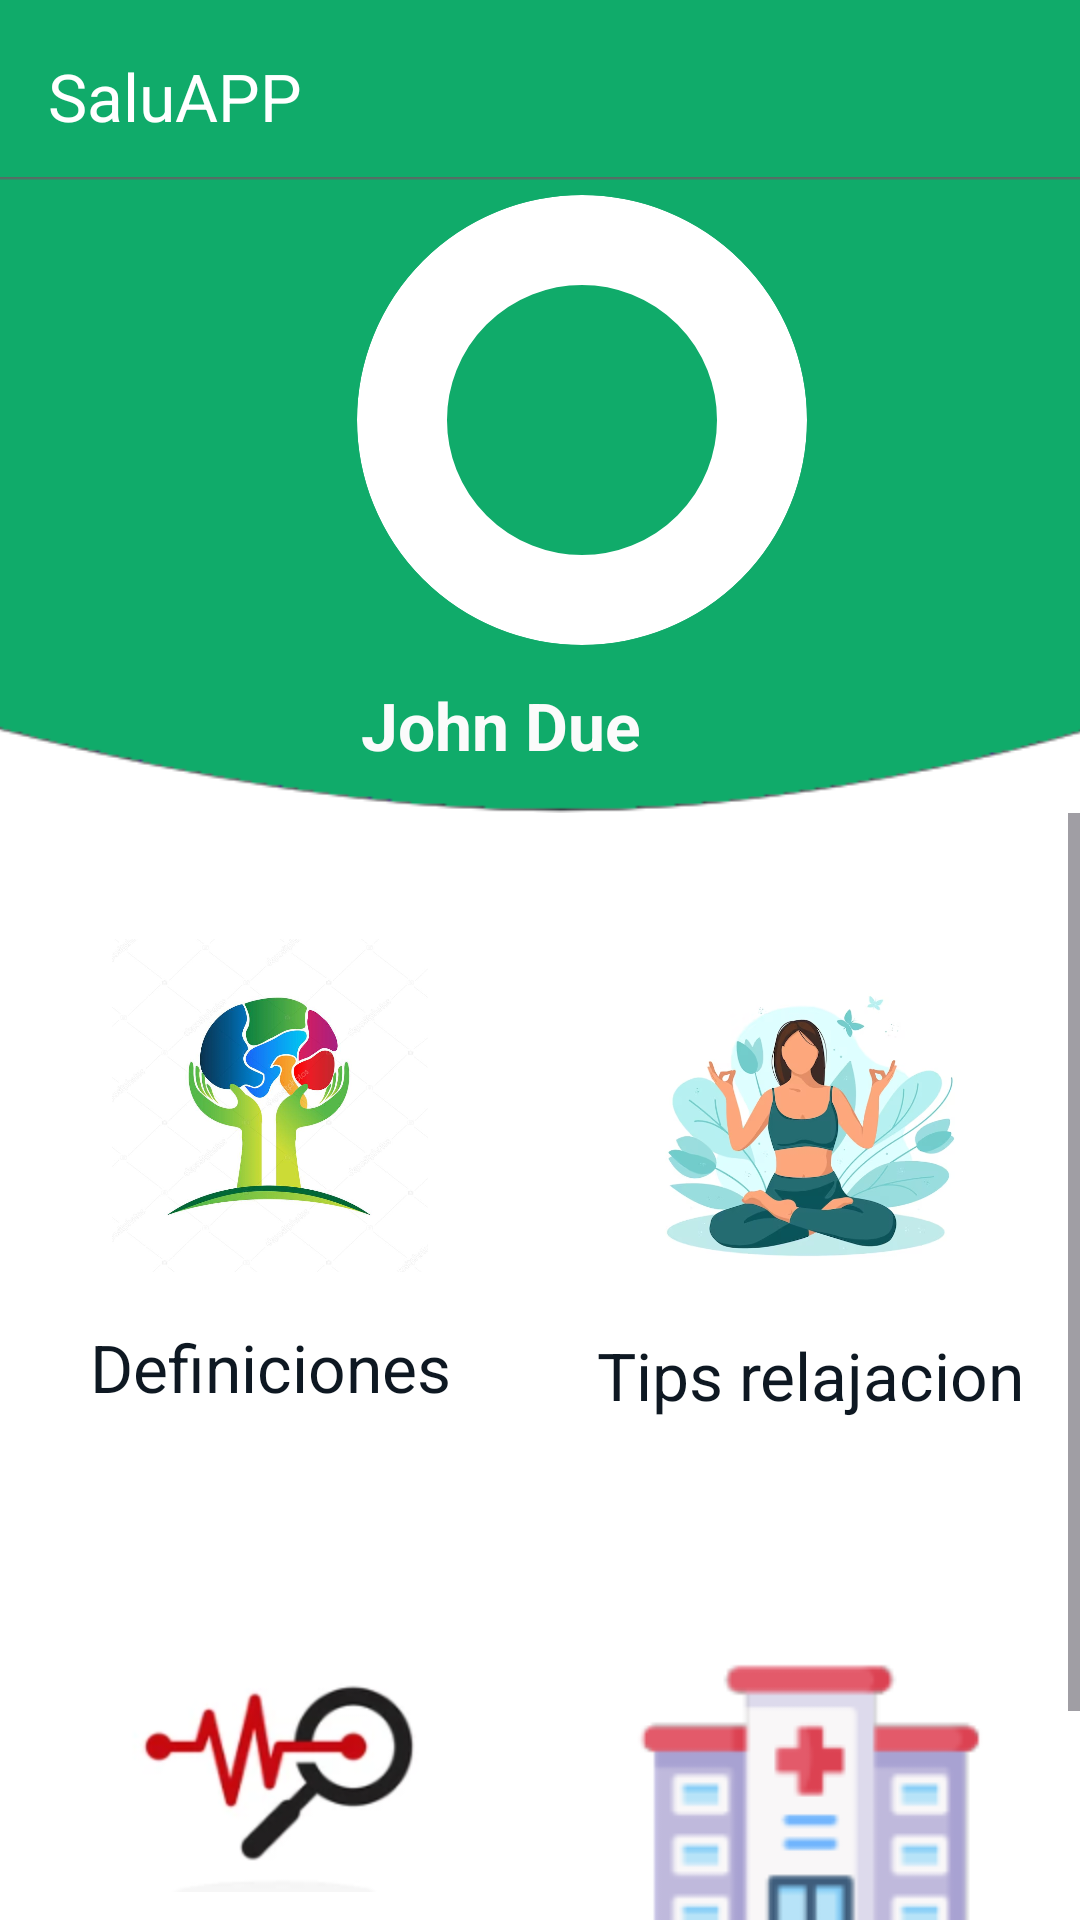

Screen size 1080 x 1920. Icon name, then its center in pixels as [x,y]:
investigaciones: [279,1773]
